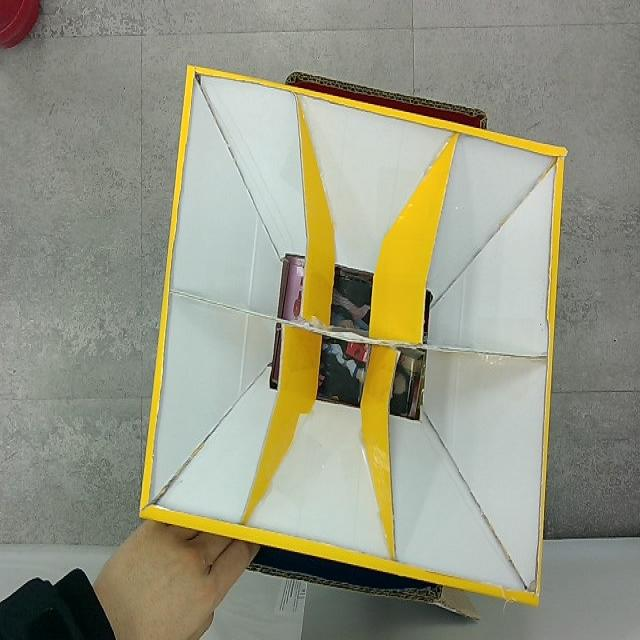box: (138, 64, 567, 612)
